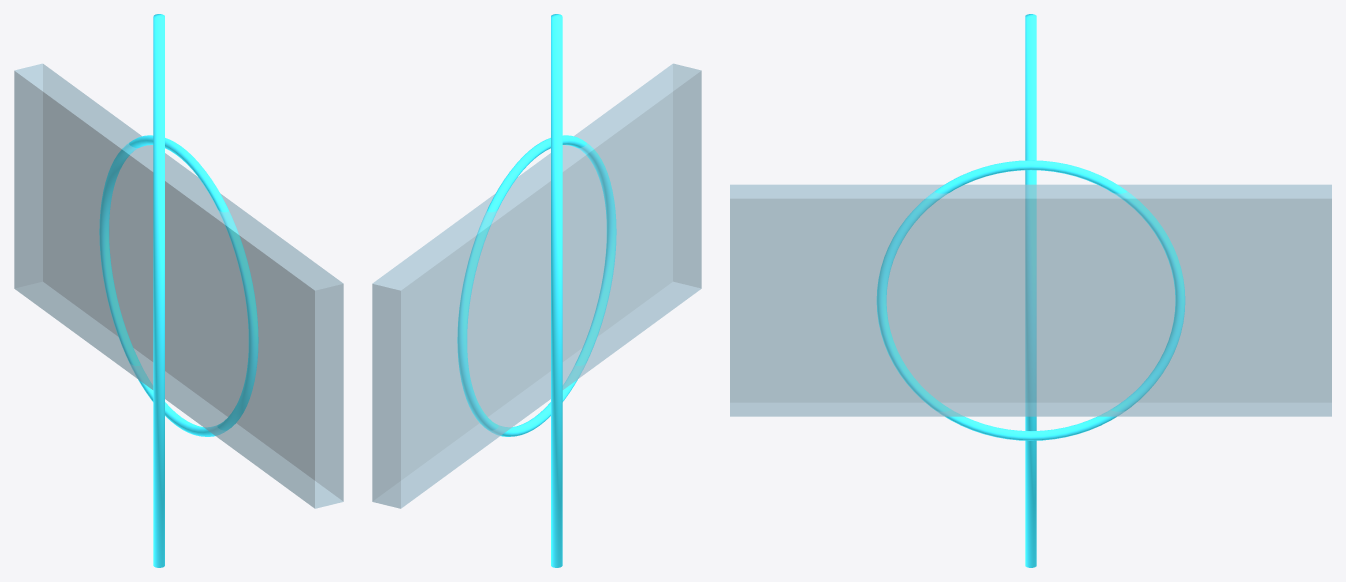
File: lens-cylinder.glb
The picture shows the model from 3 angles, left to right: view 1: azimuth 30°, elevation 25°; view 2: azimuth 150°, elevation 25°; view 3: azimuth 270°, elevation 25°; orthographic projection.
Parts seen in each view (by area): view 1: cylinder glass plate, cylinder curvature guide, cylinder axis; view 2: cylinder glass plate, cylinder curvature guide, cylinder axis; view 3: cylinder glass plate, cylinder curvature guide, cylinder axis.
Boxes of the visible parts, bbox=[...] form: cylinder glass plate: bbox=[14, 63, 343, 508]; cylinder curvature guide: bbox=[99, 135, 258, 436]; cylinder axis: bbox=[153, 14, 164, 567]; cylinder glass plate: bbox=[372, 63, 701, 508]; cylinder curvature guide: bbox=[457, 135, 616, 436]; cylinder axis: bbox=[551, 14, 562, 567]; cylinder glass plate: bbox=[730, 184, 1331, 416]; cylinder curvature guide: bbox=[876, 160, 1185, 440]; cylinder axis: bbox=[1025, 14, 1036, 567].
Bounding box in the file's own units: 0.109 × 1.46 × 1.45.
